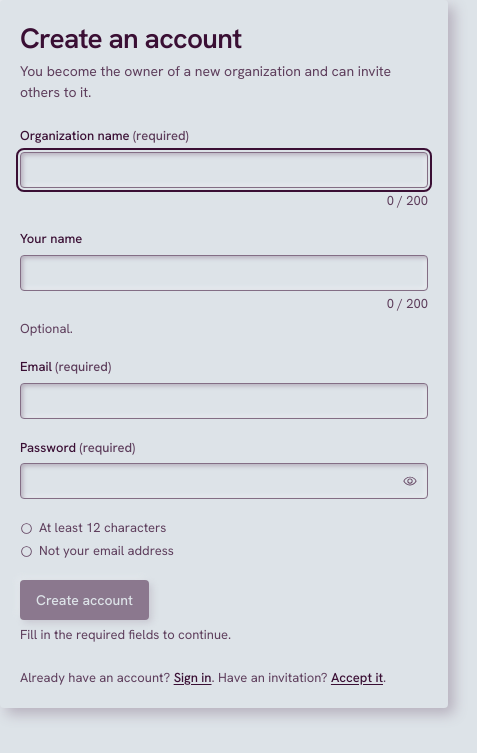
Test: RegisterForm › explains a conflict answer
The width and height of the screenshot is (477, 753).
In the field labelled "Organization name (required)": (224, 170) [20, 152, 428, 188], type "Sam Labs"
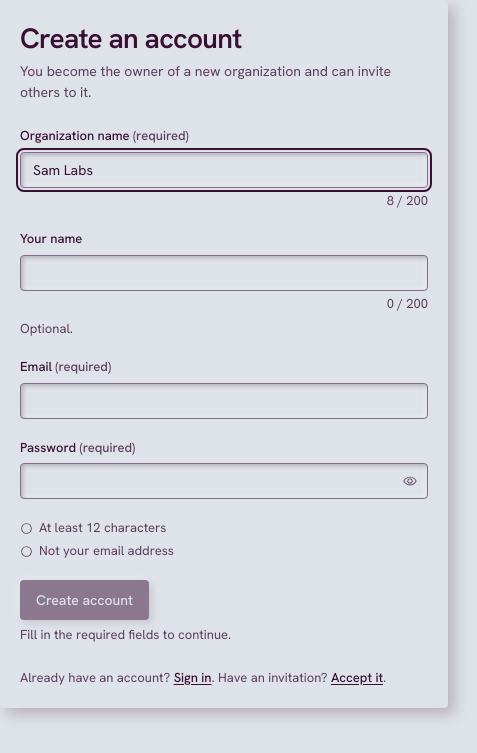
In the field labelled "Email (required)": (224, 401) [20, 383, 428, 419], type "sam@example.test"
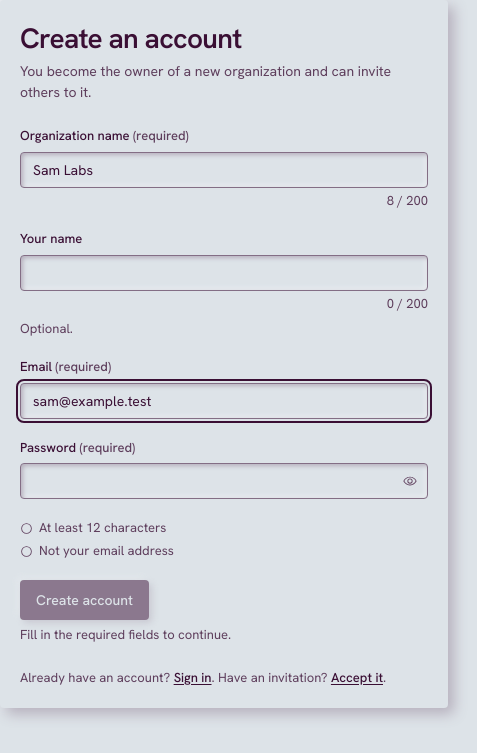
In the password field labelled "Password (required)": (224, 481) [20, 463, 428, 499], type "correct horse battery staple"
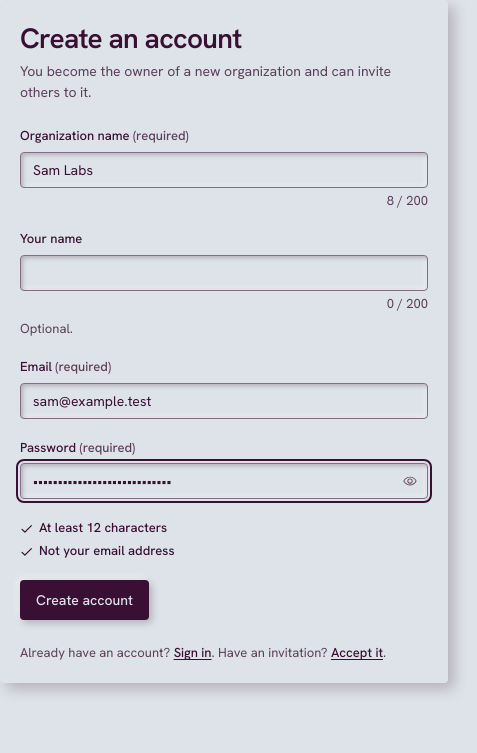
Click the button "Create account": (84, 600) [20, 580, 149, 620]
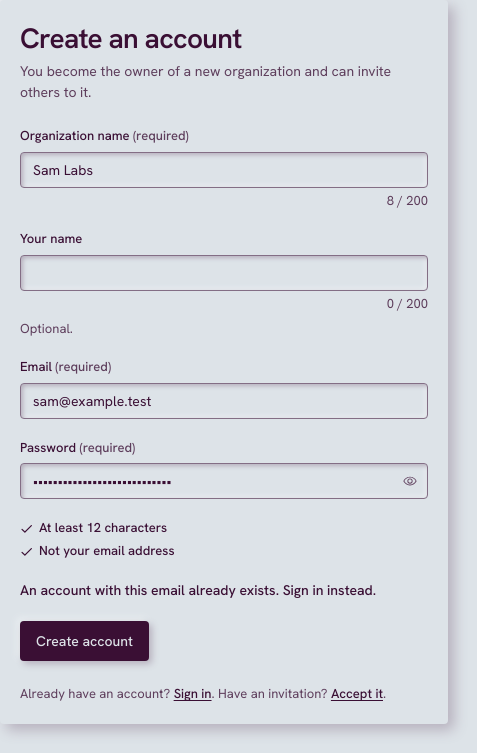
Check: the message shows "already exists", box [20, 581, 376, 599]
